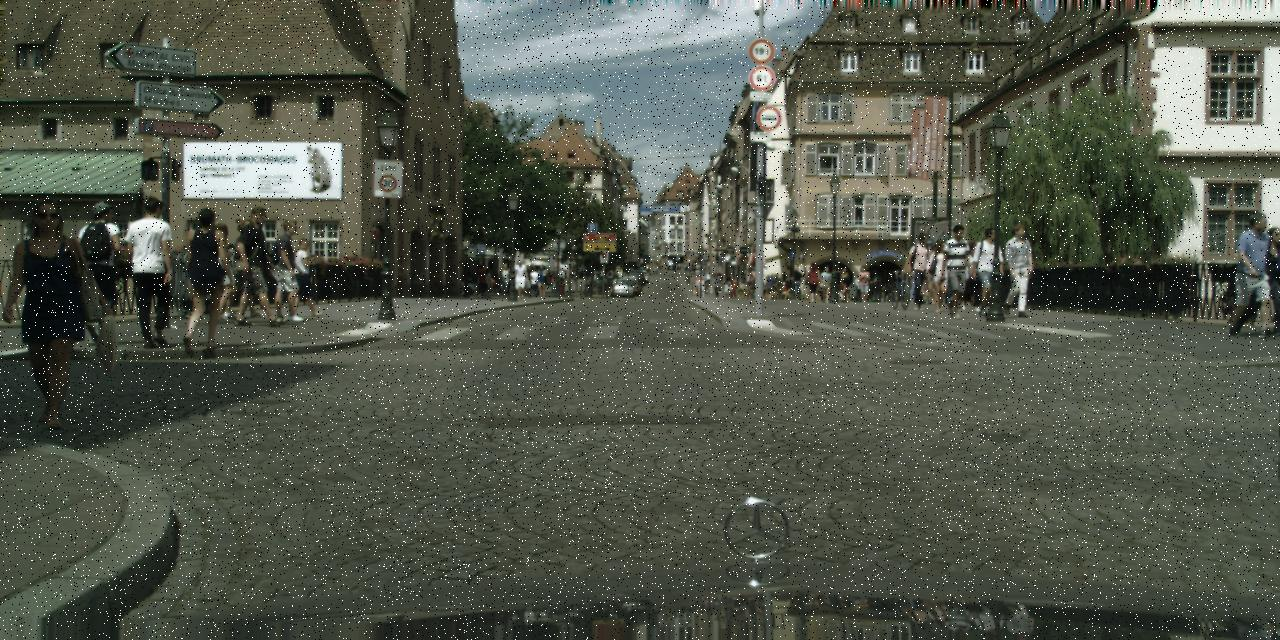ped: (0, 198, 96, 430), (124, 196, 186, 348), (172, 207, 232, 353), (68, 201, 128, 346), (1228, 212, 1278, 337), (236, 206, 284, 326), (268, 219, 310, 321), (224, 218, 265, 318), (197, 222, 237, 319), (936, 223, 976, 319), (997, 224, 1035, 316), (1246, 227, 1278, 335), (968, 228, 1005, 318), (288, 238, 320, 316), (905, 233, 936, 310), (213, 243, 244, 319), (926, 241, 955, 311), (957, 241, 985, 310), (901, 246, 924, 303), (748, 244, 766, 292), (804, 261, 820, 303), (512, 259, 528, 299), (856, 265, 872, 302), (829, 263, 844, 302), (818, 265, 833, 303), (497, 263, 511, 298), (789, 265, 803, 299), (838, 267, 852, 301), (534, 264, 548, 298), (520, 265, 534, 297), (474, 264, 487, 297), (528, 267, 540, 297), (481, 267, 492, 297), (853, 274, 863, 302), (712, 271, 722, 297), (766, 275, 775, 298), (702, 273, 710, 293), (729, 280, 736, 298), (606, 271, 613, 289), (549, 276, 556, 294), (722, 281, 729, 298), (726, 272, 732, 289), (699, 267, 704, 281), (694, 268, 699, 280), (711, 265, 716, 277), (644, 263, 648, 273), (680, 262, 683, 271), (677, 262, 680, 270)
